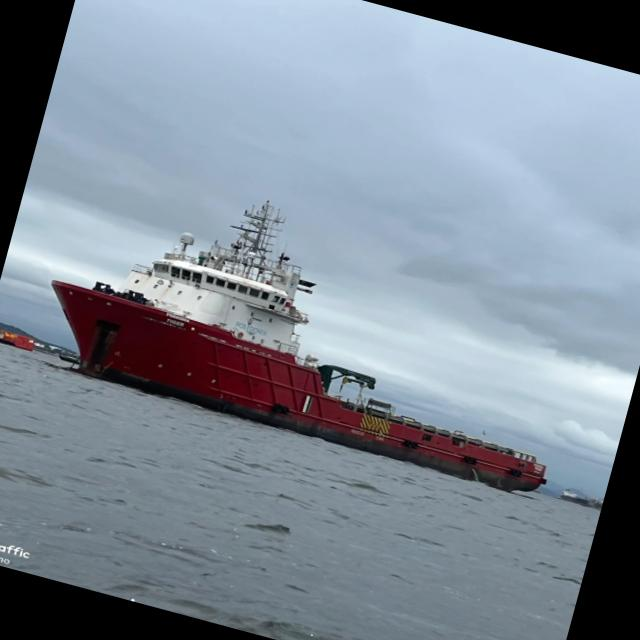Offshore: (51, 202, 545, 491)
